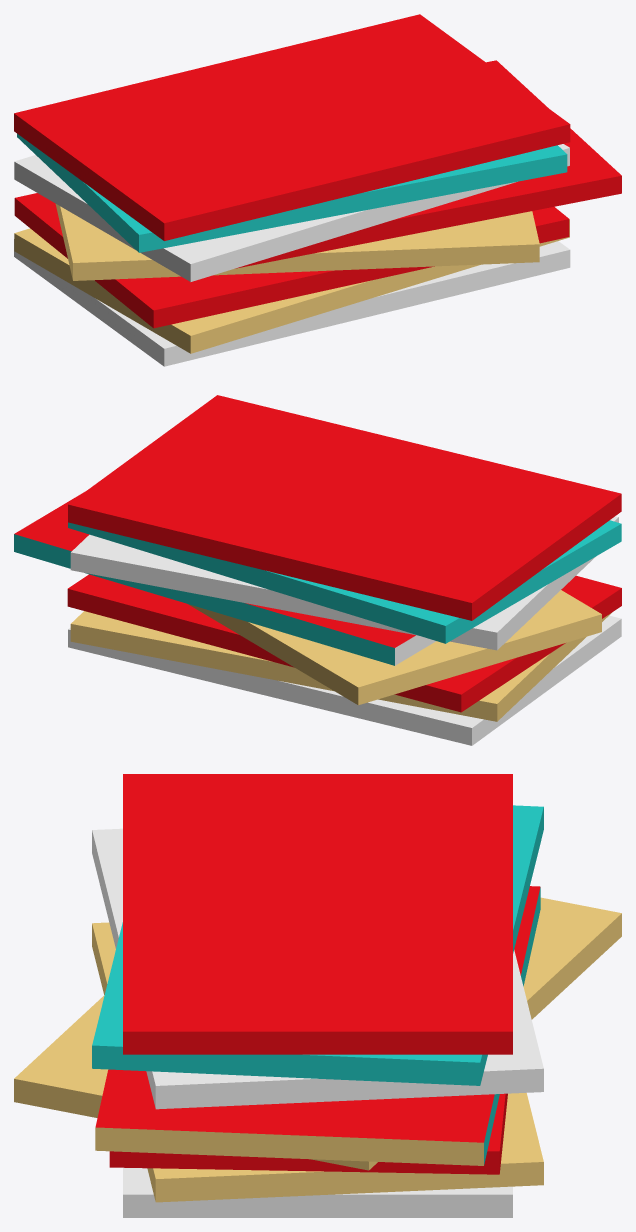
File: books.FBX
3 renders of one model, top to bottom at view 1: azimuth 30°, elevation 25°; view 2: azimuth 150°, elevation 25°; view 3: azimuth 270°, elevation 25°, orthographic. The views are drawn at different scales.
Parts seen in each view (by area): view 1: books; view 2: books; view 3: books.
Part boxes in pixels (left/top/right/bottom): books: left=14, top=14, right=621, bottom=366; books: left=14, top=395, right=621, bottom=745; books: left=14, top=774, right=621, bottom=1217.
Size of the model in its own units: 35.02 by 9.47 by 28.
